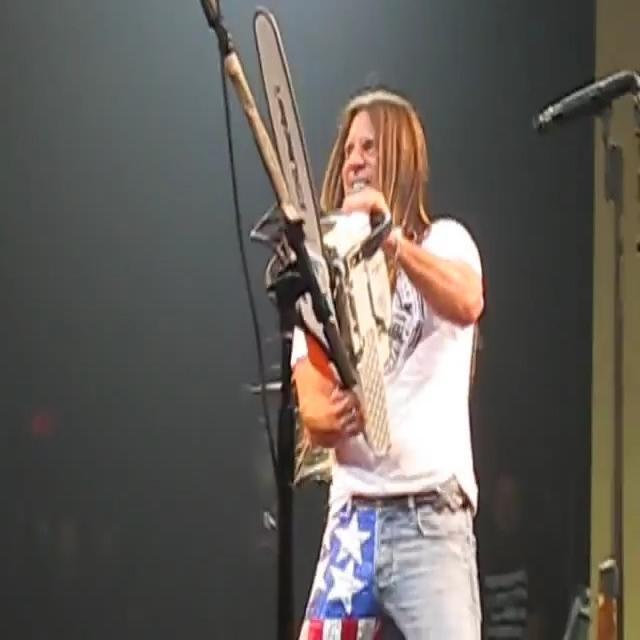Chainsaw: (221, 0, 409, 469)
